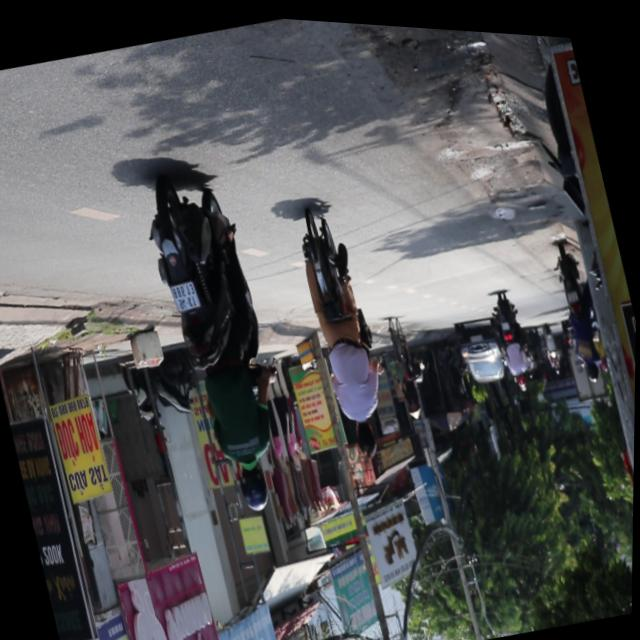helmet: (233, 456, 276, 514)
licenseplate: (132, 154, 310, 525), (282, 192, 405, 461)
motorcyclist: (351, 413, 380, 457)
nohelmet: (171, 277, 201, 311)
